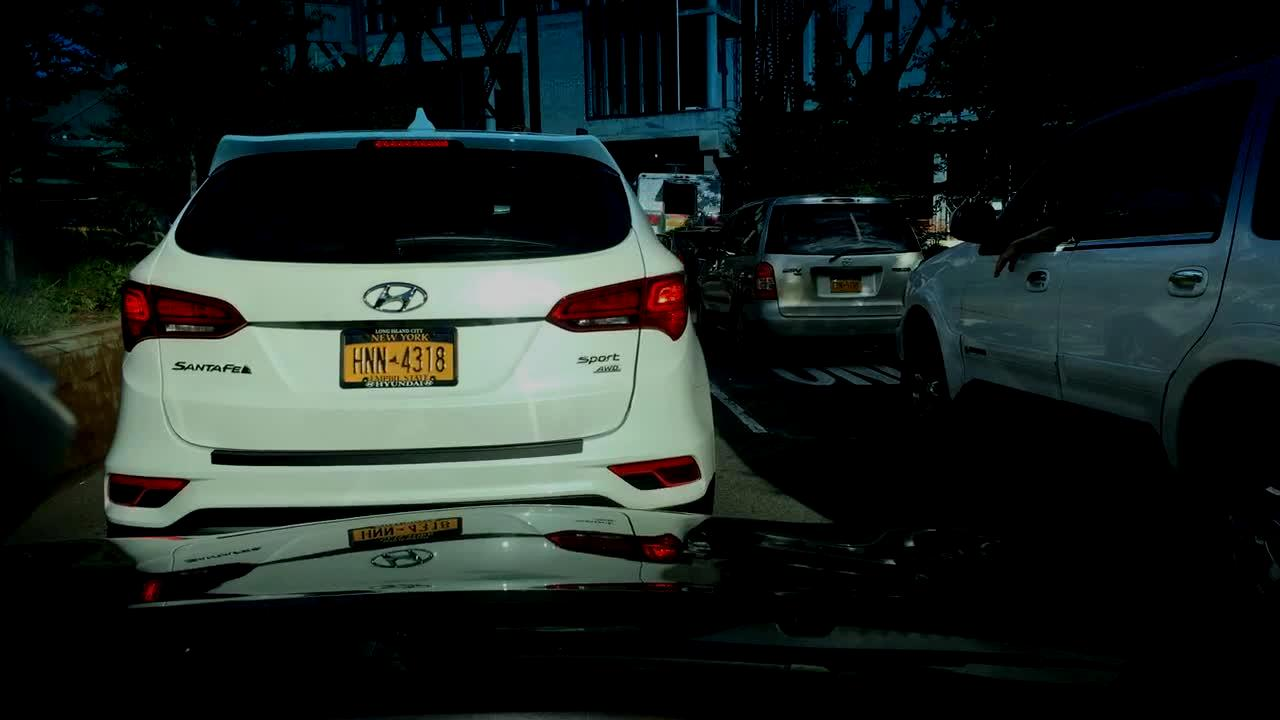Hyundai: (348, 261, 469, 337)
